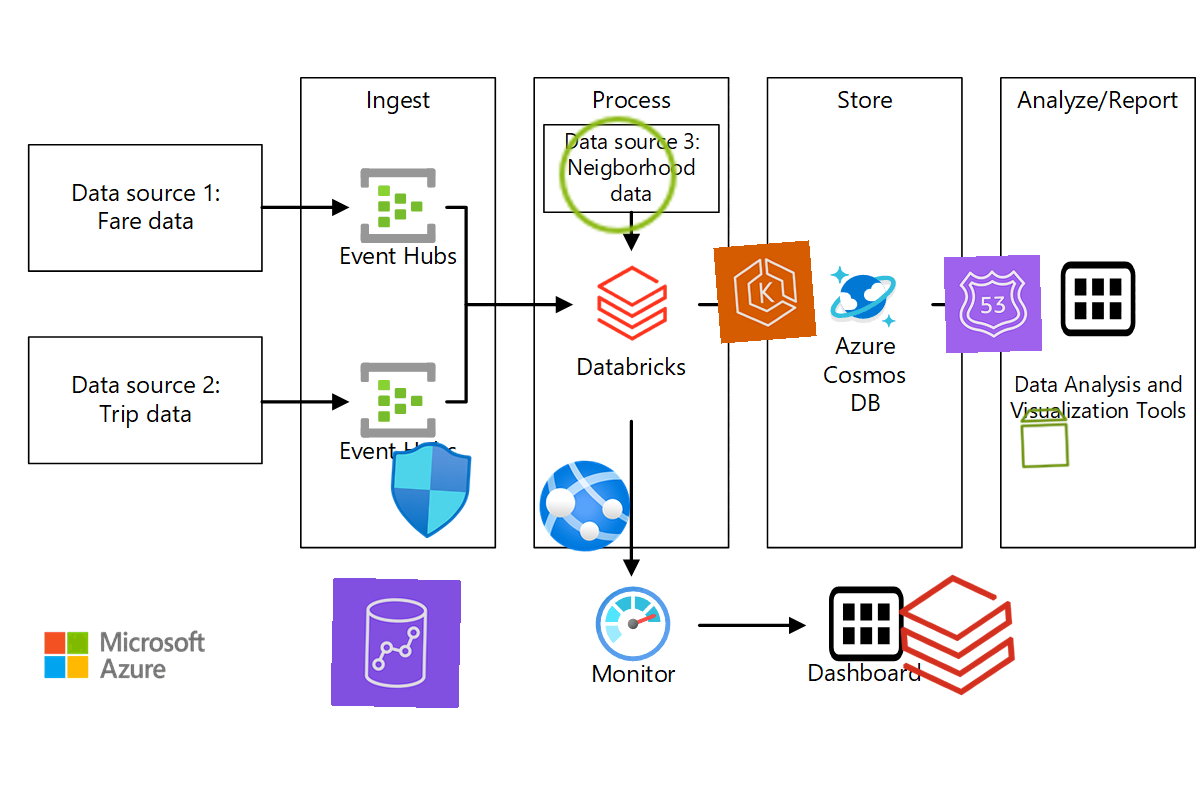aws_amazon_elastic_kubernetes_service: (713, 240, 817, 344)
aws_amazon_redshift: (330, 577, 462, 709)
aws_amazon_route_53: (943, 254, 1043, 354)
aws_elastic_block_store_volume: (1011, 404, 1079, 472)
aws_simple_storage_service_object: (553, 110, 683, 240)
azure_app_services: (534, 455, 636, 557)
azure_databricks: (888, 566, 1026, 704)
azure_network_security_groups: (379, 439, 481, 541)
